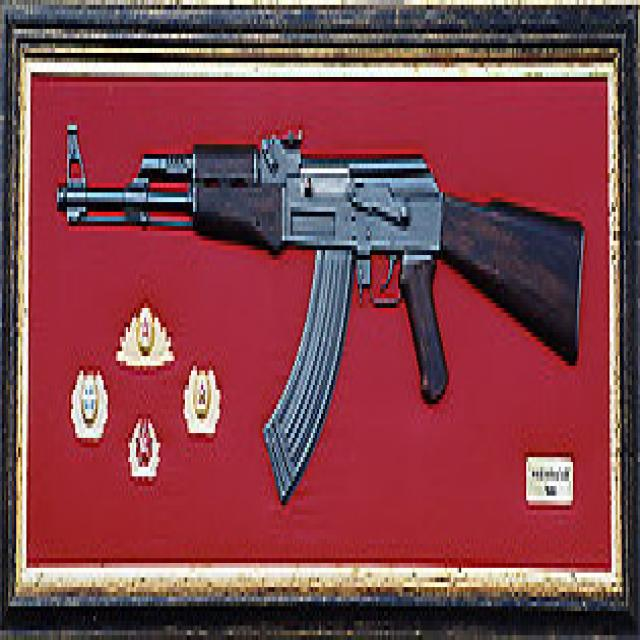Gun: (46, 119, 603, 471)
